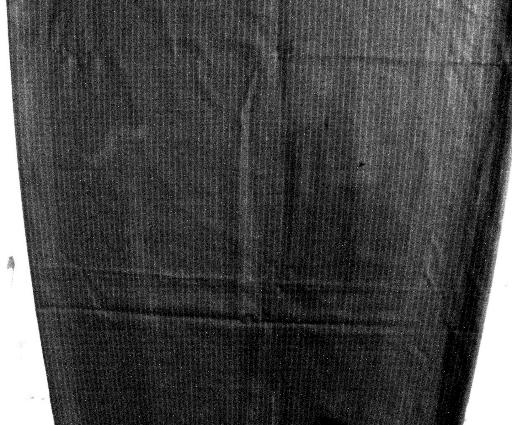fabric_hole: (322, 116, 336, 138), (354, 158, 370, 172)
